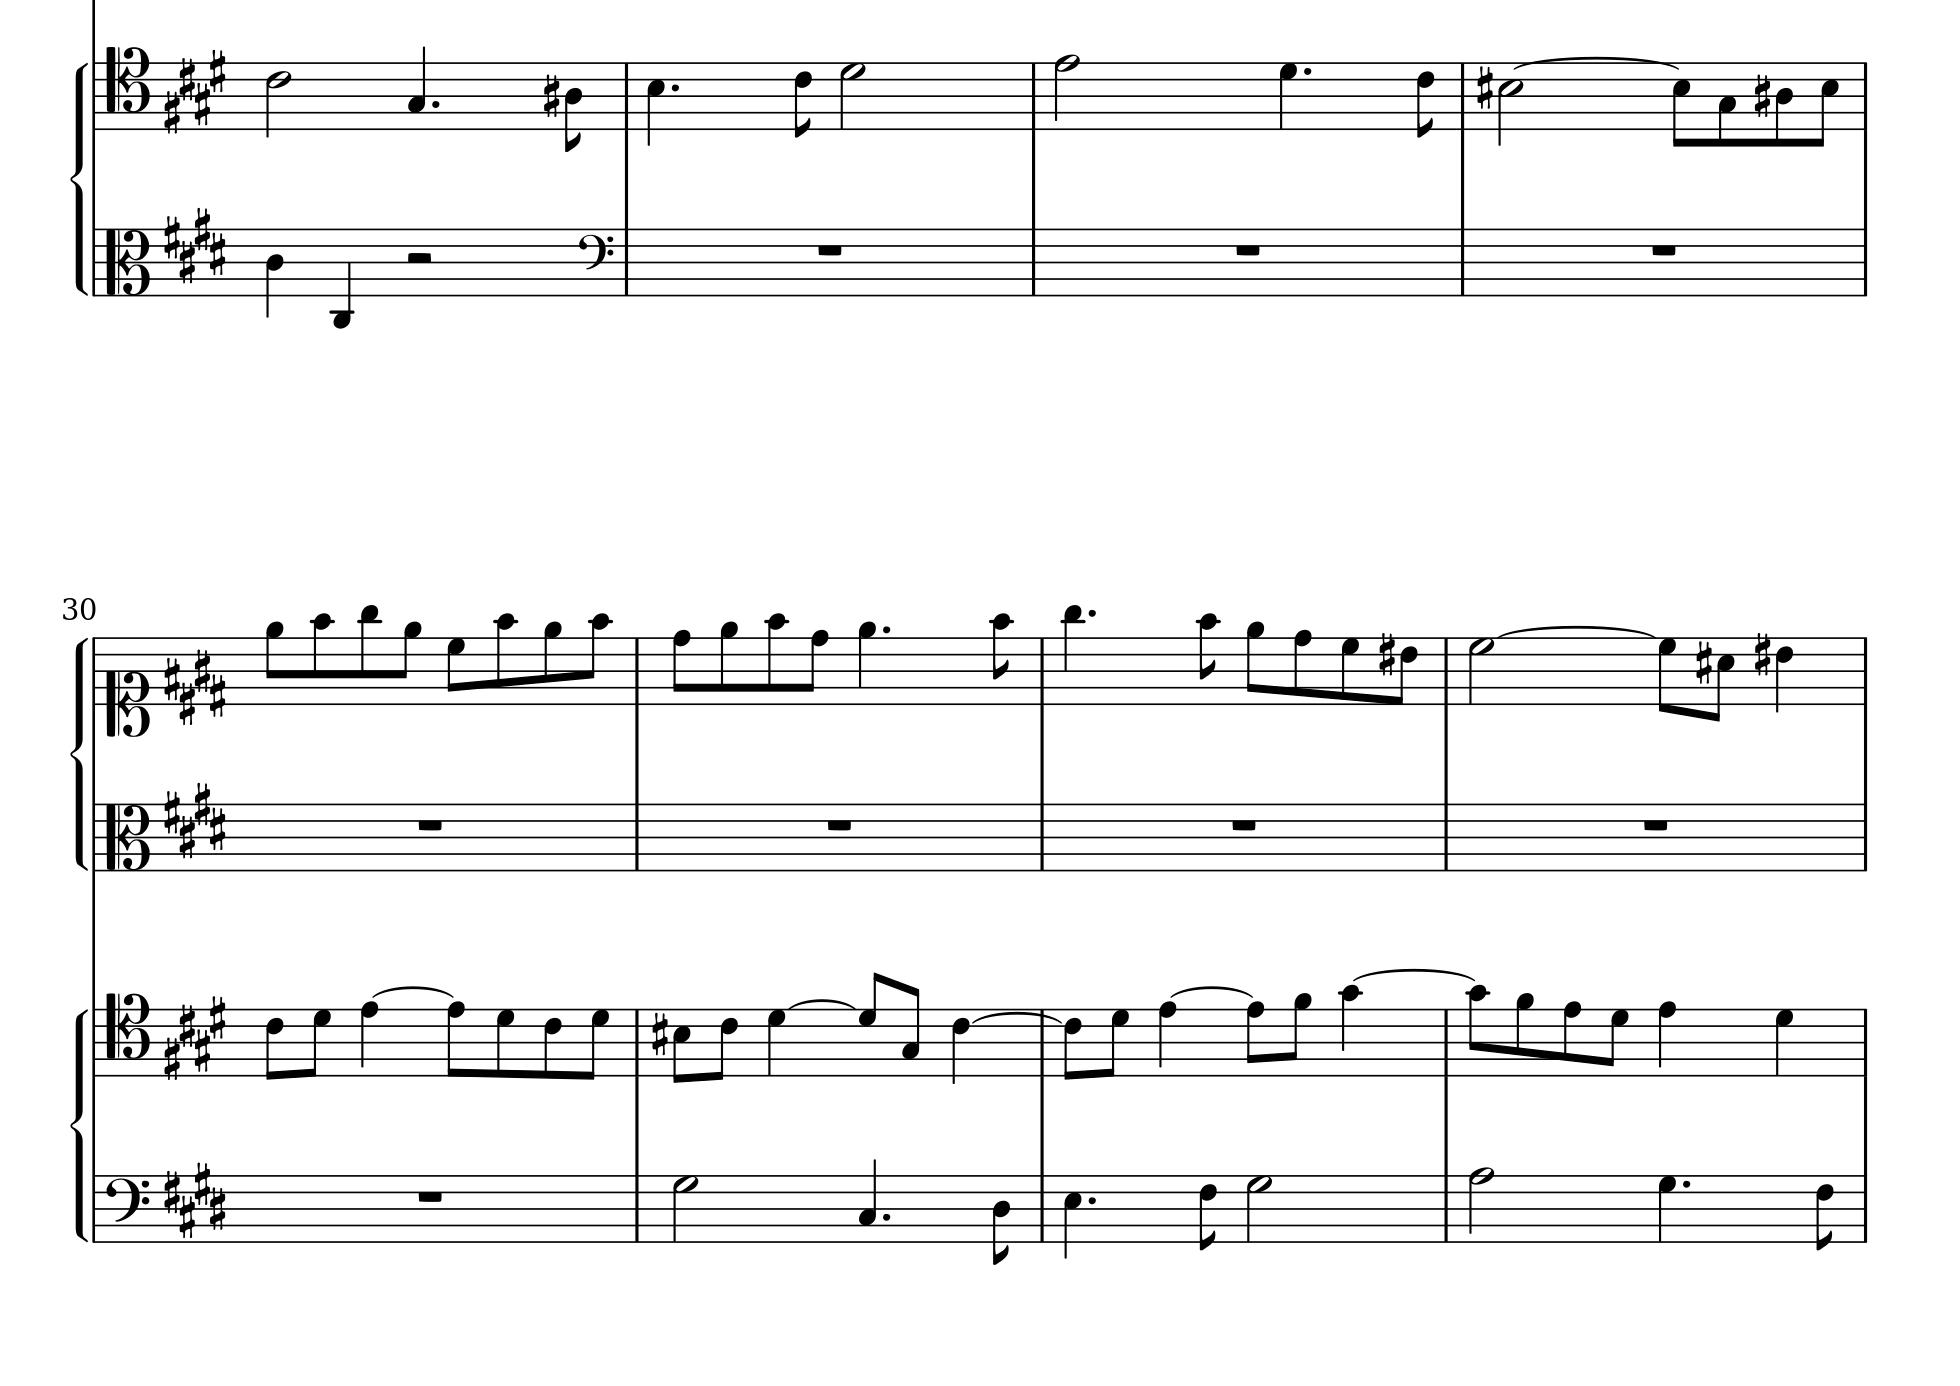0: (79, 594, 97, 621)
2_5: (1497, 58, 1527, 147)
2_6: (264, 58, 292, 138)
2_7: (837, 60, 867, 132), (1467, 634, 1495, 708), (1245, 1171, 1272, 1243), (670, 1173, 697, 1243)
2_8: (1467, 1164, 1495, 1245), (1053, 52, 1081, 132)
3: (61, 595, 78, 621)
4_-3: (328, 223, 355, 328)
4_10: (1339, 982, 1365, 1078)
4_11: (1062, 603, 1086, 706)
4_3: (406, 43, 429, 130), (856, 1156, 879, 1243)
4_5: (645, 58, 666, 148), (1062, 1171, 1083, 1260)
4_6: (262, 225, 289, 319), (949, 1006, 972, 1086), (1774, 634, 1794, 711)
4_7: (1773, 1006, 1795, 1078), (765, 1006, 787, 1077), (1656, 1173, 1678, 1243), (1278, 61, 1300, 130)
4_8: (1656, 997, 1678, 1078), (1156, 999, 1179, 1078), (358, 999, 379, 1078)
4_9: (856, 619, 877, 706)
8_10: (583, 610, 613, 706), (309, 610, 334, 706), (763, 610, 789, 706), (493, 610, 517, 706), (1467, 982, 1491, 1078), (990, 612, 1014, 706), (1197, 612, 1221, 706)
8_11: (357, 601, 381, 706)
8_3: (900, 982, 922, 1078), (1717, 58, 1738, 148)
8_4: (991, 1171, 1012, 1264), (562, 61, 583, 151), (1774, 58, 1794, 148)
8_5: (1710, 633, 1737, 723), (1813, 58, 1840, 147), (1671, 60, 1692, 150), (670, 1006, 691, 1083)
8_6: (711, 1006, 739, 1081), (1393, 634, 1422, 706), (1197, 1173, 1219, 1252), (793, 60, 814, 141), (264, 1006, 286, 1081), (1416, 60, 1437, 139), (1815, 1173, 1836, 1252), (541, 1006, 564, 1080), (1062, 1006, 1083, 1080)
8_7: (856, 967, 883, 1077), (580, 1006, 610, 1078), (1656, 634, 1680, 718), (1102, 1006, 1131, 1077), (304, 1006, 331, 1078), (1603, 1006, 1630, 1077), (493, 1006, 517, 1078), (1339, 636, 1363, 706), (445, 636, 468, 706)
8_8: (802, 628, 829, 706), (670, 627, 694, 706), (1293, 627, 1315, 706), (445, 999, 468, 1078), (1245, 999, 1267, 1078), (1561, 999, 1584, 1078)
8_9: (1284, 991, 1314, 1078), (397, 619, 424, 706), (718, 618, 741, 706), (264, 619, 286, 706), (541, 619, 564, 706), (1245, 619, 1267, 706), (1515, 991, 1536, 1078)
Brace: (69, 633, 90, 874), (69, 1003, 90, 1245), (69, 55, 88, 298)
Cclef: (102, 226, 151, 298), (103, 802, 151, 874)
E_S: (160, 48, 228, 135), (162, 991, 228, 1080), (160, 1158, 229, 1240), (162, 778, 228, 861), (160, 205, 228, 285), (162, 646, 228, 726)
Fclef: (103, 1171, 151, 1243), (576, 226, 615, 295)
Rests1: (1647, 238, 1681, 259), (1639, 813, 1674, 834), (1228, 813, 1260, 834), (414, 814, 447, 834), (823, 814, 856, 834), (1233, 238, 1264, 258), (414, 1185, 445, 1204), (814, 238, 846, 256)
Rests2: (403, 249, 436, 265)
Sharp: (1377, 628, 1398, 676), (1752, 628, 1773, 676), (541, 72, 561, 121), (1753, 70, 1773, 118), (649, 1009, 669, 1057), (1476, 63, 1494, 112), (1695, 637, 1713, 685)
Single_barline: (1854, 634, 1873, 705), (1035, 1008, 1054, 1078), (1437, 1008, 1456, 1075), (628, 1006, 646, 1077), (628, 1171, 646, 1242), (1033, 802, 1051, 871), (1437, 802, 1455, 871), (1855, 1006, 1873, 1075), (628, 636, 646, 703), (1438, 636, 1455, 706), (1455, 61, 1471, 130), (628, 802, 645, 871), (87, 1006, 103, 1075), (618, 61, 634, 129), (1026, 61, 1042, 129), (618, 228, 634, 295), (1035, 637, 1051, 703), (1438, 1174, 1455, 1240), (1857, 1174, 1873, 1240), (1857, 226, 1872, 297), (1455, 226, 1470, 297), (88, 801, 103, 871), (88, 61, 103, 130), (1026, 226, 1041, 295), (1857, 802, 1872, 871), (87, 228, 102, 295), (88, 636, 103, 703), (88, 1174, 103, 1242), (1858, 60, 1872, 133), (1035, 1174, 1050, 1240)
Slur: (1509, 54, 1683, 72), (1501, 622, 1650, 637), (1353, 967, 1477, 982), (1170, 984, 1255, 999), (972, 1011, 1065, 1024), (370, 984, 454, 997), (787, 996, 855, 1009)
Soprano_Cclef: (105, 634, 151, 738)
Tensor_Cclef: (103, 990, 151, 1078), (103, 45, 151, 130)
dot: (667, 79, 682, 94), (1086, 606, 1099, 621), (879, 622, 892, 634), (1086, 1192, 1098, 1206), (430, 96, 441, 111), (1302, 64, 1314, 76), (1680, 1177, 1692, 1189), (879, 1210, 891, 1222)
